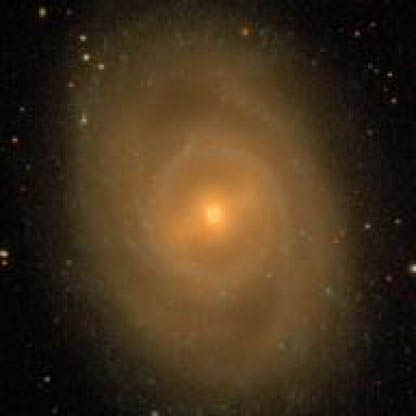Messier 95: (40, 14, 376, 416)
